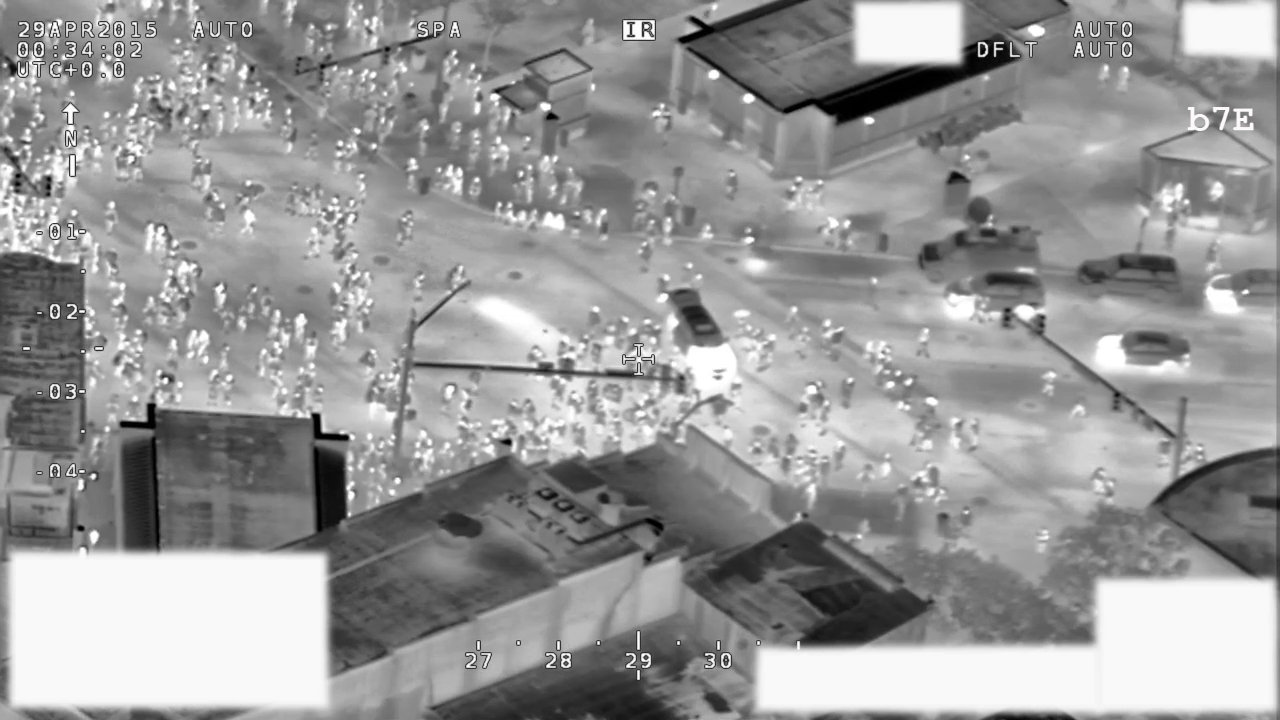vehicle: (914, 193, 1050, 283), (661, 281, 744, 393), (1068, 248, 1186, 305), (938, 267, 1050, 318), (1088, 326, 1197, 374)
